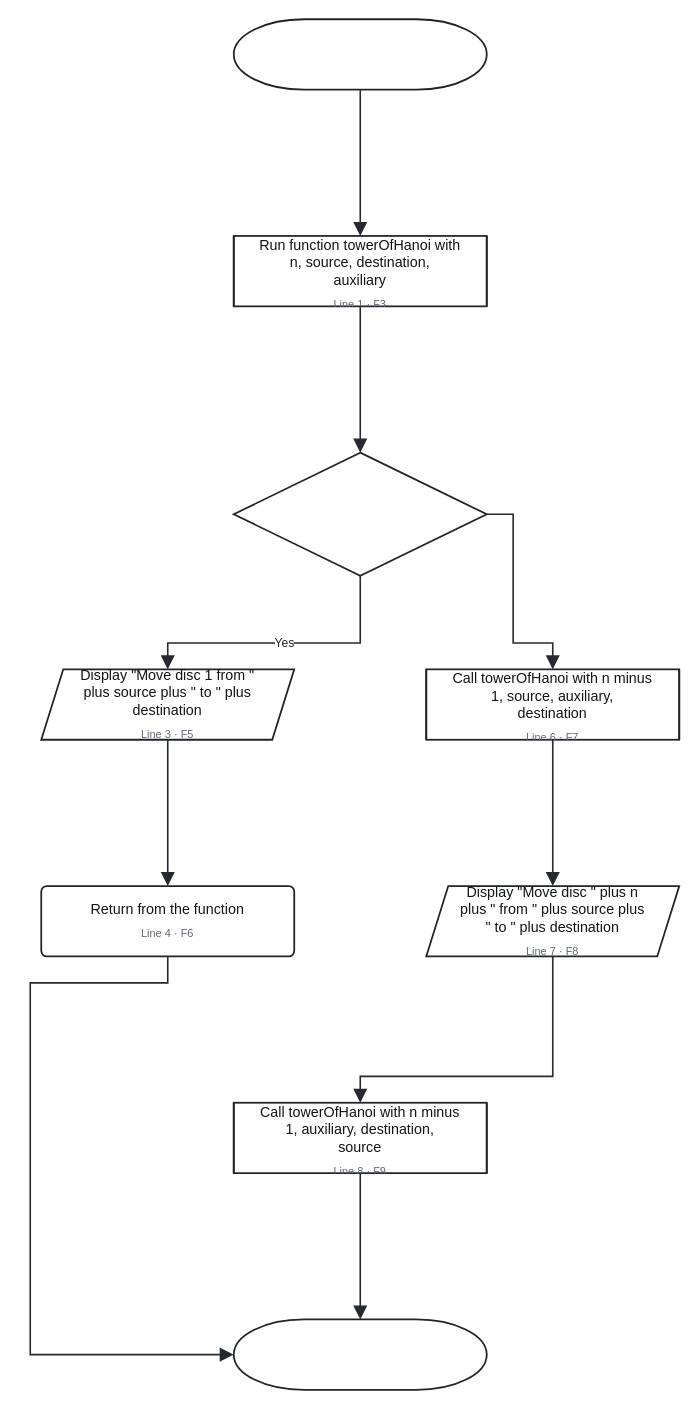
The diagram is 700 pixels wide and 1410 high, and some of its shapes have lost their labels. The centre of each missing label's shape, as x and y in pixels:
"End Line 1 · F2" belongs at [359,1354].
"N is equal to 1? Line 2 · F4" belongs at [359,513].
"Start Line 1 · F1" belongs at [359,54].
